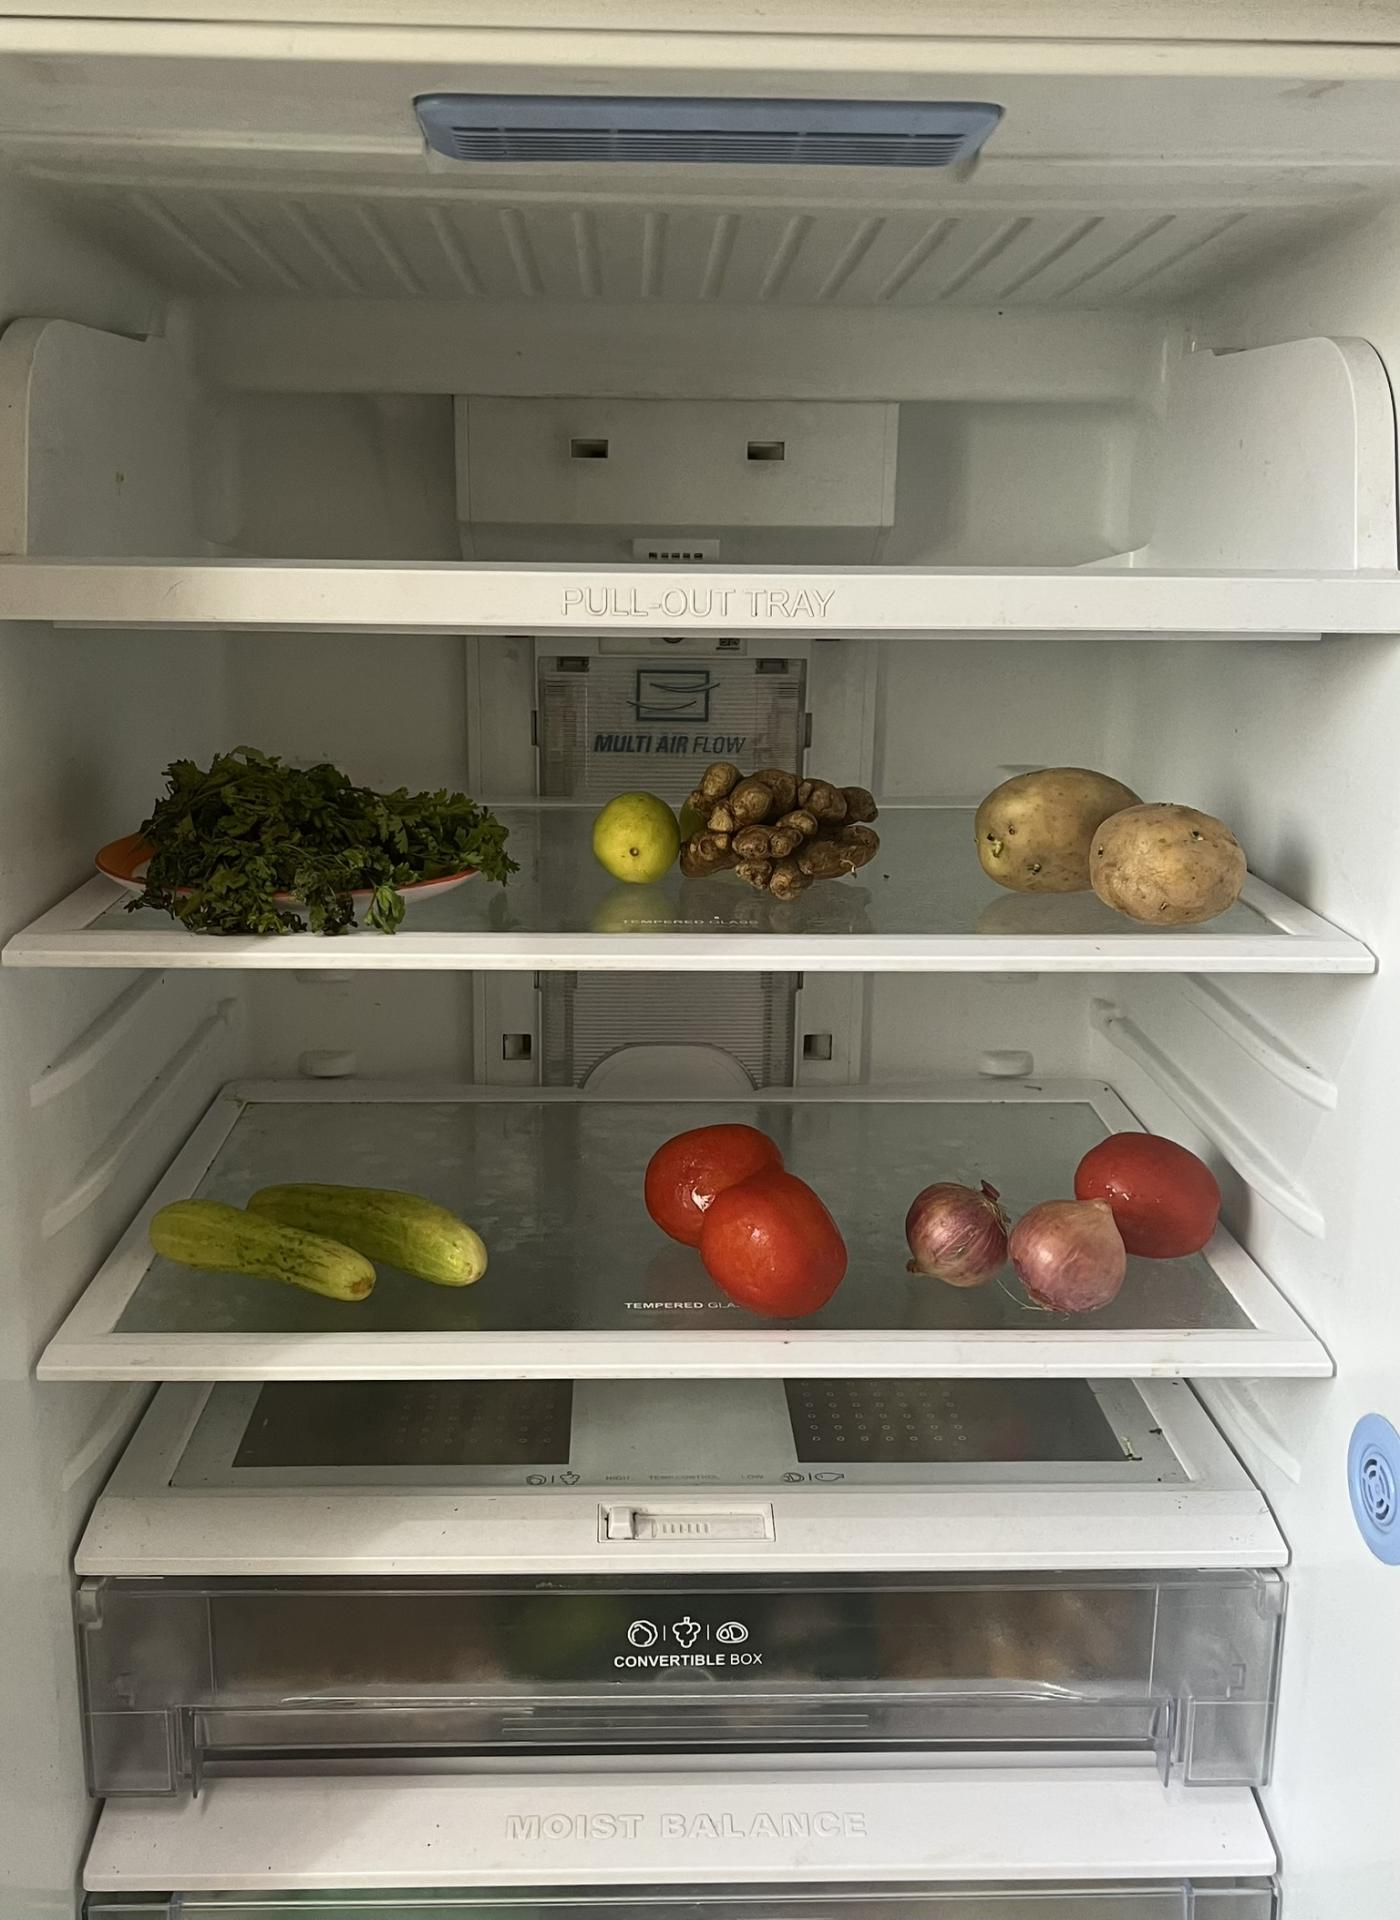coriander: (119, 742, 514, 918)
ginger: (695, 760, 878, 884)
lemon: (602, 799, 675, 862)
onion: (908, 1182, 1127, 1315)
potato: (968, 762, 1240, 921)
tomato: (644, 1122, 851, 1306), (1076, 1127, 1226, 1249)
